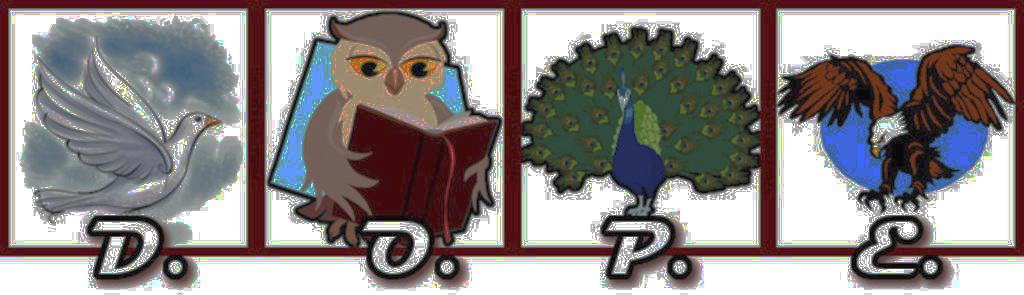Owl: (292, 11, 502, 250)
